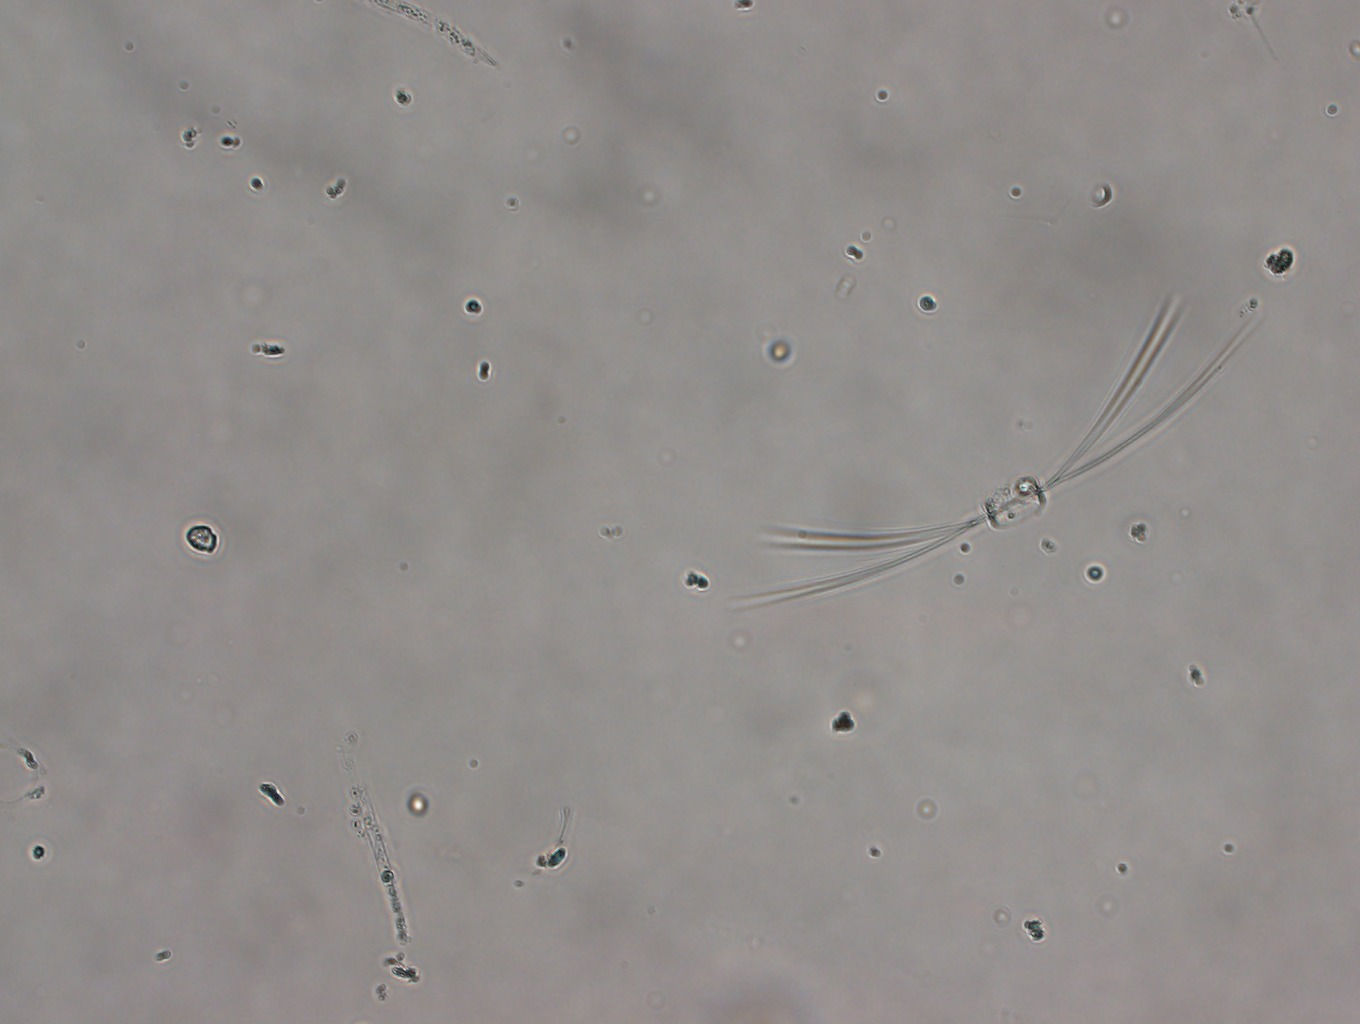chaetoceros: (713, 285, 1270, 618)
